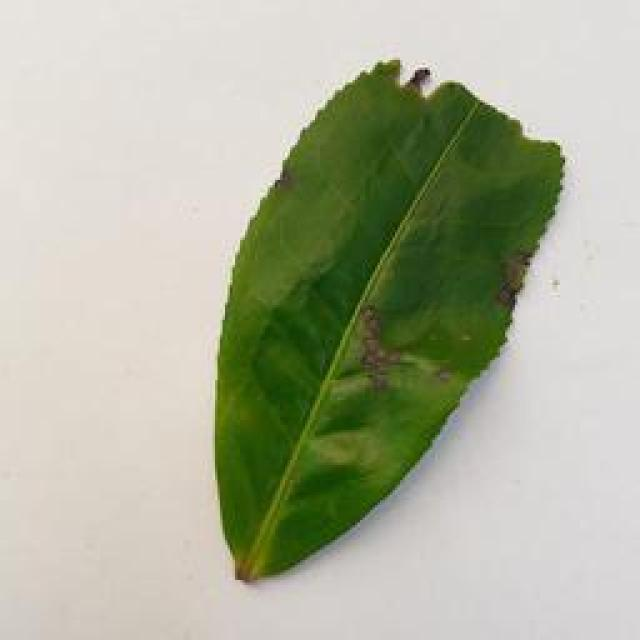Helopeltis: (208, 51, 564, 591)
